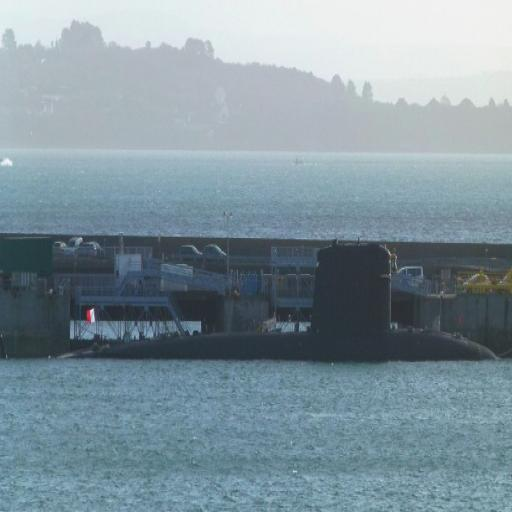submarine: (55, 250, 504, 366)
